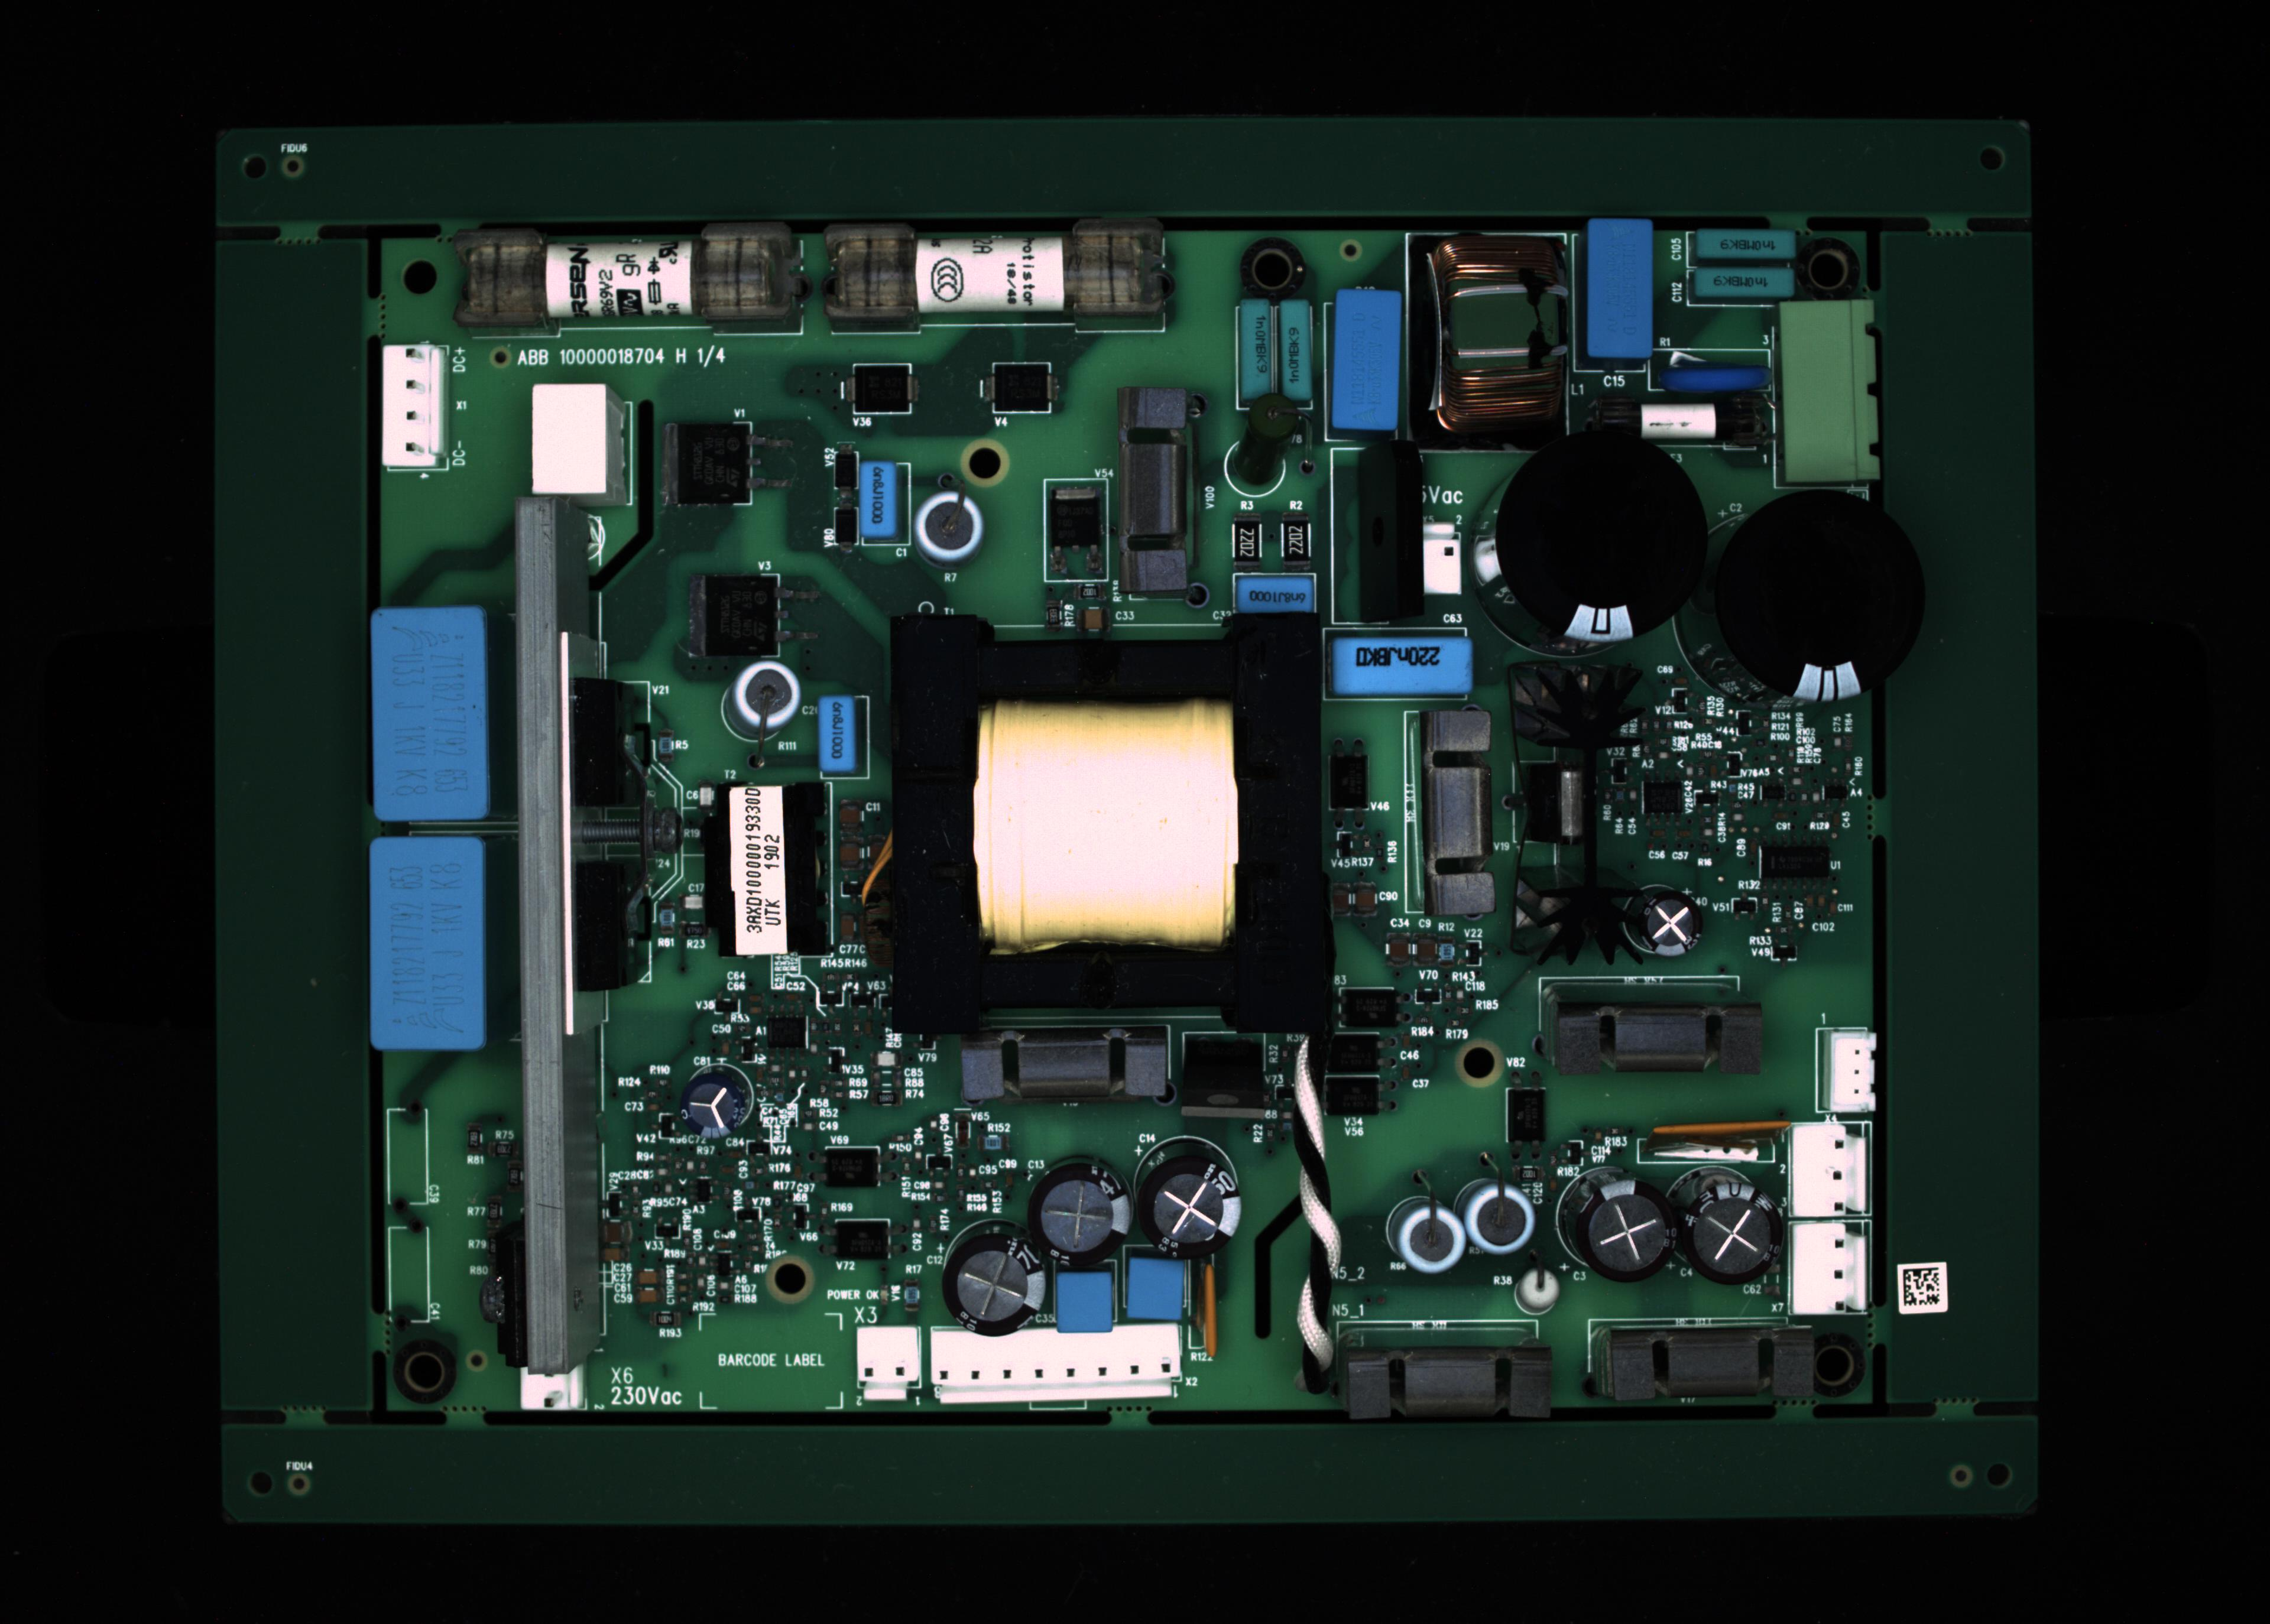10_p: (1648, 346, 1772, 394)
11_q: (1779, 299, 1880, 489)
12_r: (1591, 387, 1776, 455)
13_s: (380, 337, 443, 466)
14_t: (536, 380, 624, 492)
15_e: (856, 466, 895, 536)
16_k: (911, 487, 985, 564)
17_u: (1127, 385, 1206, 608)
18_v: (1234, 569, 1317, 615)
19_w: (1336, 633, 1473, 694)
1_a: (454, 227, 802, 337)
20_f: (1426, 524, 1459, 594)
21_g: (1475, 429, 1709, 670)
22_g: (1714, 482, 1929, 701)
23_h: (375, 608, 485, 821)
24_h: (369, 837, 487, 1044)
25_f: (520, 1364, 587, 1417)
26_f: (855, 1322, 921, 1399)
27_x: (925, 1323, 1180, 1408)
28_i: (1129, 1120, 1241, 1239)
29_i: (1027, 1153, 1134, 1274)
2_a: (819, 216, 1175, 330)
30_i: (941, 1216, 1055, 1339)
31_j: (1050, 1267, 1120, 1339)
32_j: (1115, 1237, 1197, 1329)
33_e: (816, 694, 856, 770)
34_k: (1373, 1181, 1465, 1281)
35_k: (1456, 1178, 1542, 1271)
36_i: (1556, 1164, 1672, 1295)
37_i: (1663, 1160, 1786, 1290)
38_l: (1335, 1343, 1560, 1420)
39_l: (1593, 1320, 1820, 1406)
3_b: (1234, 295, 1270, 410)
40_l: (1554, 998, 1769, 1062)
41_y: (1407, 678, 1505, 919)
42_z: (1827, 1026, 1876, 1109)
43_m: (1792, 1125, 1867, 1216)
44_m: (1788, 1225, 1869, 1311)
45_i: (679, 1065, 756, 1142)
46_n: (1338, 982, 1398, 1026)
47_n: (818, 1146, 881, 1192)
48_n: (830, 1218, 891, 1264)
49_aa: (761, 1011, 814, 1056)
4_b: (1280, 299, 1317, 410)
50_n: (1321, 1030, 1391, 1070)
51_n: (1321, 1074, 1377, 1120)
52_ab: (1331, 750, 1370, 808)
53_ac: (1656, 1130, 1790, 1165)
54_ad: (1194, 1253, 1222, 1364)
55_l: (957, 1021, 1175, 1118)
56_ae: (1176, 1025, 1282, 1132)
57_af: (1509, 647, 1635, 951)
58_i: (1630, 884, 1706, 958)
59_o: (988, 360, 1055, 413)
5_c: (1329, 286, 1400, 448)
60_o: (853, 362, 911, 417)
6_ag: (1405, 232, 1572, 452)
7_c: (1584, 216, 1649, 357)
8_d: (1686, 227, 1792, 260)
9_d: (1693, 262, 1793, 295)
